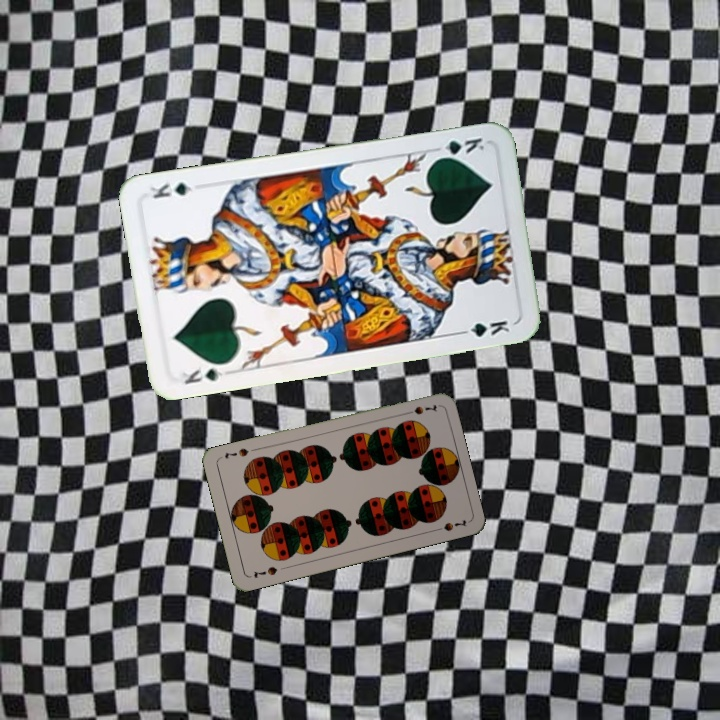GK: (431, 133, 487, 162), (177, 362, 226, 387)
S7: (400, 400, 440, 417), (249, 562, 280, 581)
